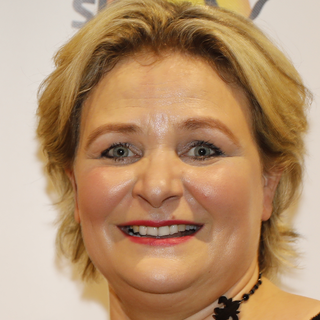eye: (96, 140, 144, 165), (173, 141, 224, 164)
